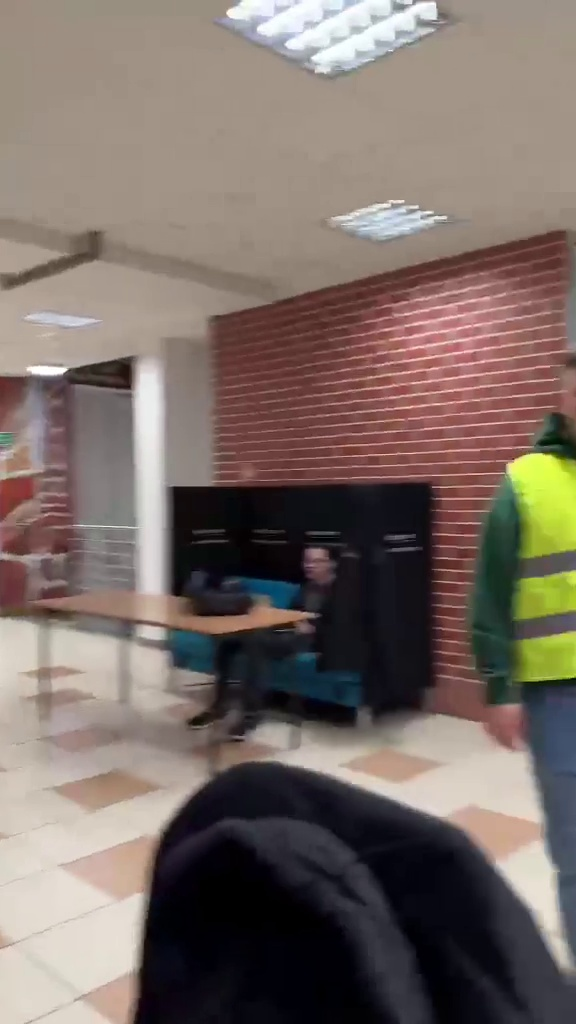no vest: (187, 541, 345, 726)
vest: (477, 344, 576, 964)
